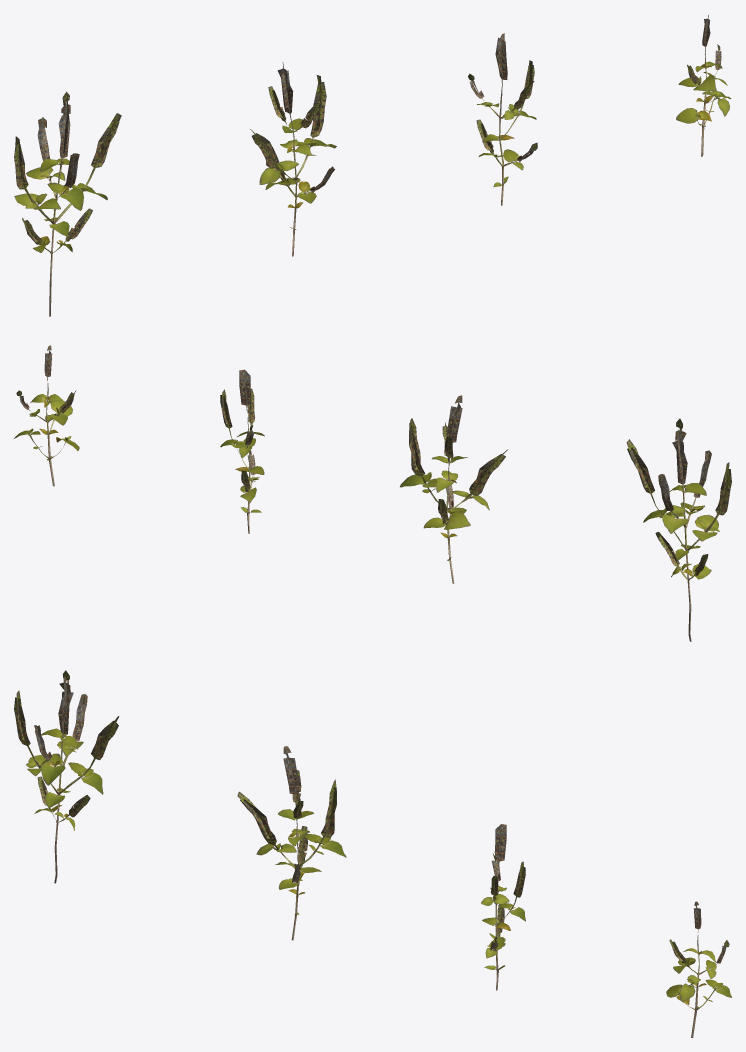
The model's file is shrub_03.glb.
3 renders of one model, top to bottom at view 1: azimuth 30°, elevation 25°; view 2: azimuth 150°, elevation 25°; view 3: azimuth 330°, elevation 25°, orthographic. The views are drawn at different scales.
Visible parts, largest first — view 1: shrub_03_a, shrub_03_b, shrub_03_c, shrub_03_d; view 2: shrub_03_a, shrub_03_b, shrub_03_c, shrub_03_d; view 3: shrub_03_a, shrub_03_b, shrub_03_c, shrub_03_d.
Boxes of the visible parts, <box> form: shrub_03_a: <box>14,91,121,316</box>; shrub_03_b: <box>250,62,336,256</box>; shrub_03_c: <box>468,33,537,205</box>; shrub_03_d: <box>676,15,731,156</box>; shrub_03_a: <box>626,418,731,641</box>; shrub_03_b: <box>400,395,507,583</box>; shrub_03_c: <box>220,369,264,533</box>; shrub_03_d: <box>14,345,79,486</box>; shrub_03_a: <box>14,670,119,883</box>; shrub_03_b: <box>237,746,346,940</box>; shrub_03_c: <box>481,824,525,990</box>; shrub_03_d: <box>666,901,731,1037</box>.
Size of the model in its own units: 1.37 by 0.4028 by 0.1512.
Materials: 1 (1 with a texture image).
